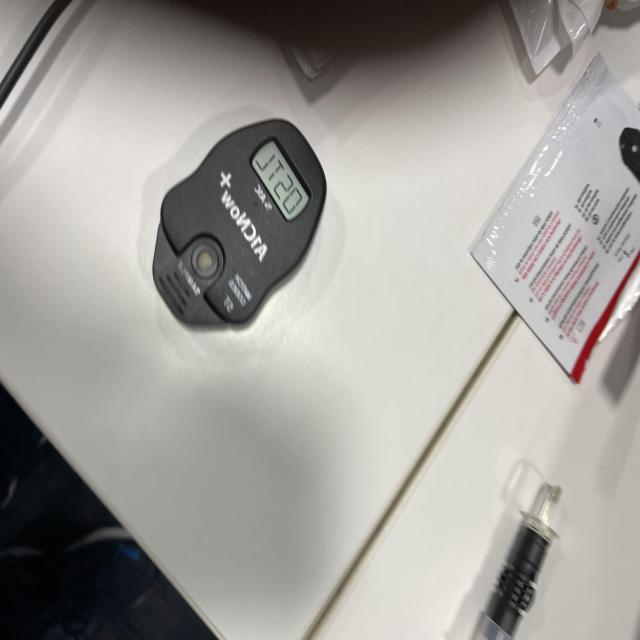hba1c: (146, 119, 329, 332)
